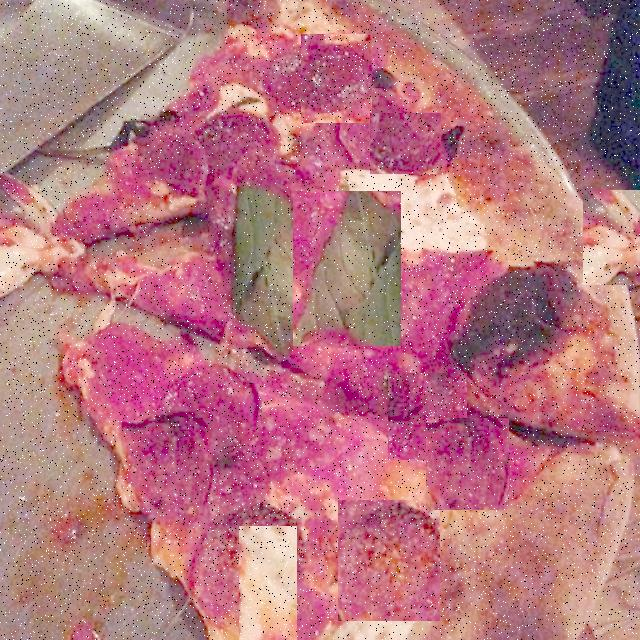Basil: (293, 191, 401, 346)
Cheese: (163, 146, 284, 263), (239, 526, 297, 640), (583, 190, 640, 285)
Pepperoni: (338, 500, 440, 621), (426, 418, 509, 510), (388, 373, 467, 460), (301, 34, 372, 123), (227, 86, 302, 153), (370, 113, 441, 174)
Pizza: (0, 0, 640, 640)
